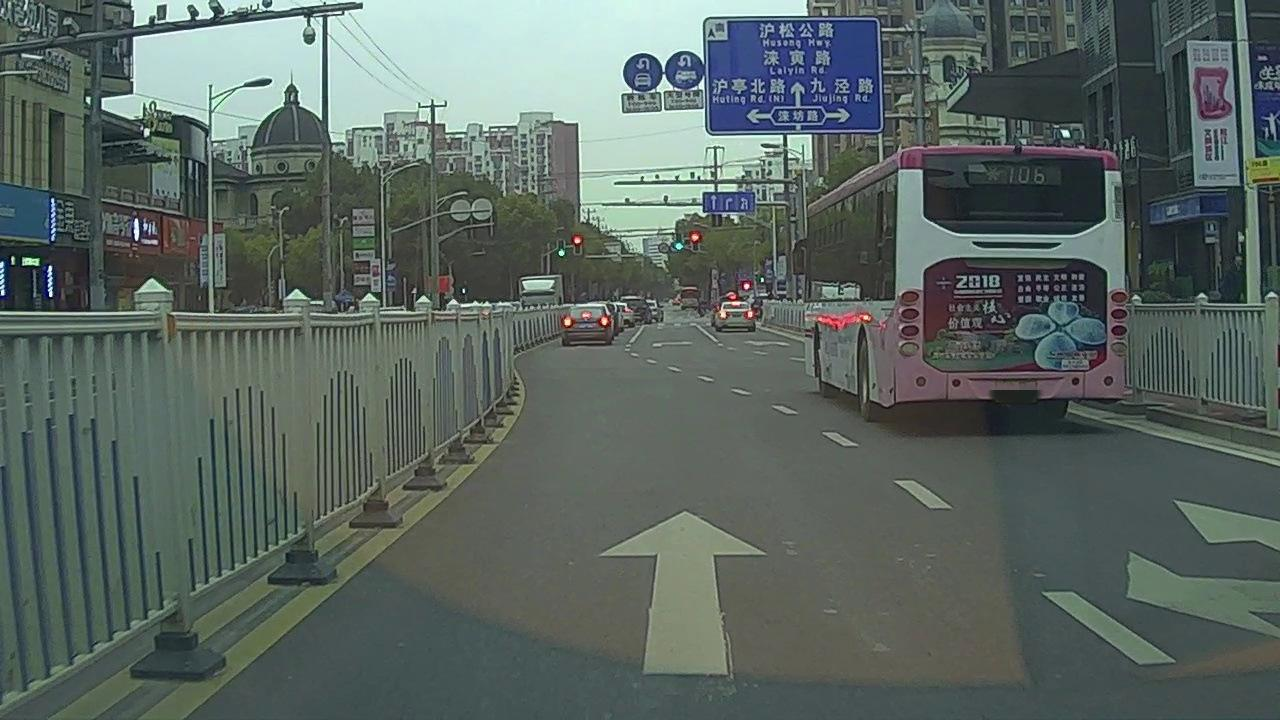traffic_light: (557, 239, 565, 257), (574, 235, 582, 253), (677, 233, 682, 251), (693, 231, 698, 249)
